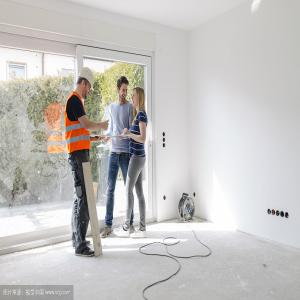none: (131, 86, 147, 111), (116, 77, 130, 103)
white: (76, 66, 97, 102)
